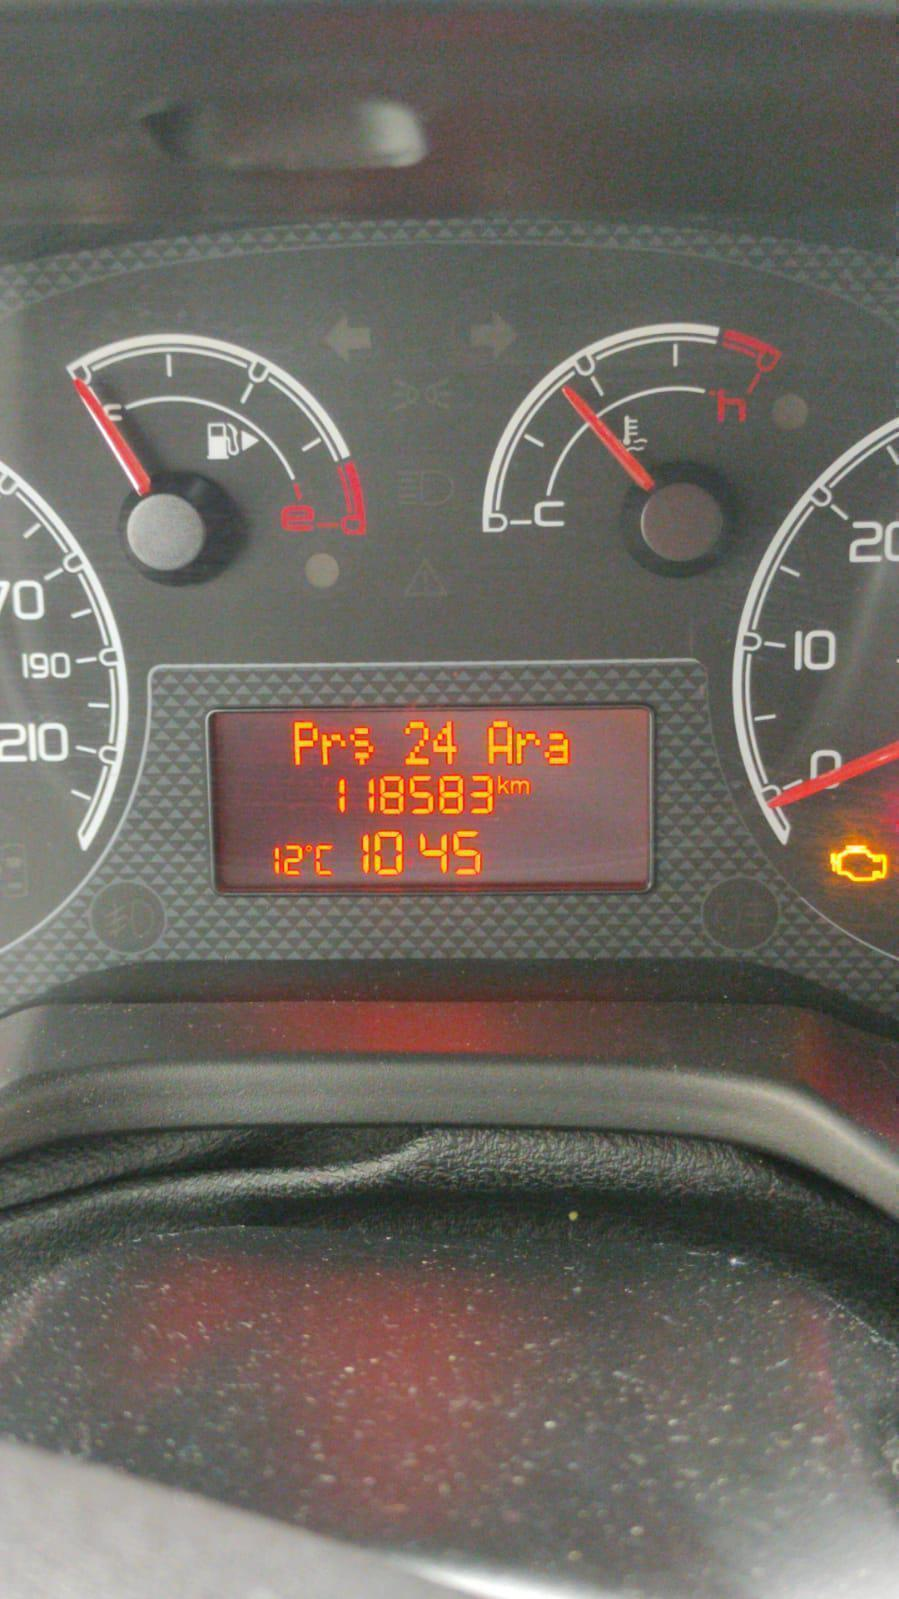0: (373, 829, 403, 876)
1: (333, 772, 353, 819), (357, 829, 371, 877), (363, 772, 375, 817), (269, 840, 281, 879)
2: (402, 718, 430, 768), (283, 842, 303, 877)
3: (470, 771, 493, 817)
4: (416, 829, 449, 875), (432, 719, 460, 763)
5: (452, 828, 483, 876), (409, 773, 435, 814)
8: (438, 772, 464, 815), (379, 774, 404, 816)
X: (292, 718, 318, 767), (484, 719, 512, 765), (541, 728, 571, 767), (349, 722, 373, 767), (514, 728, 540, 765), (321, 730, 347, 767), (314, 842, 336, 877), (510, 778, 530, 797), (497, 773, 510, 796)
odometer: (201, 695, 665, 902)
